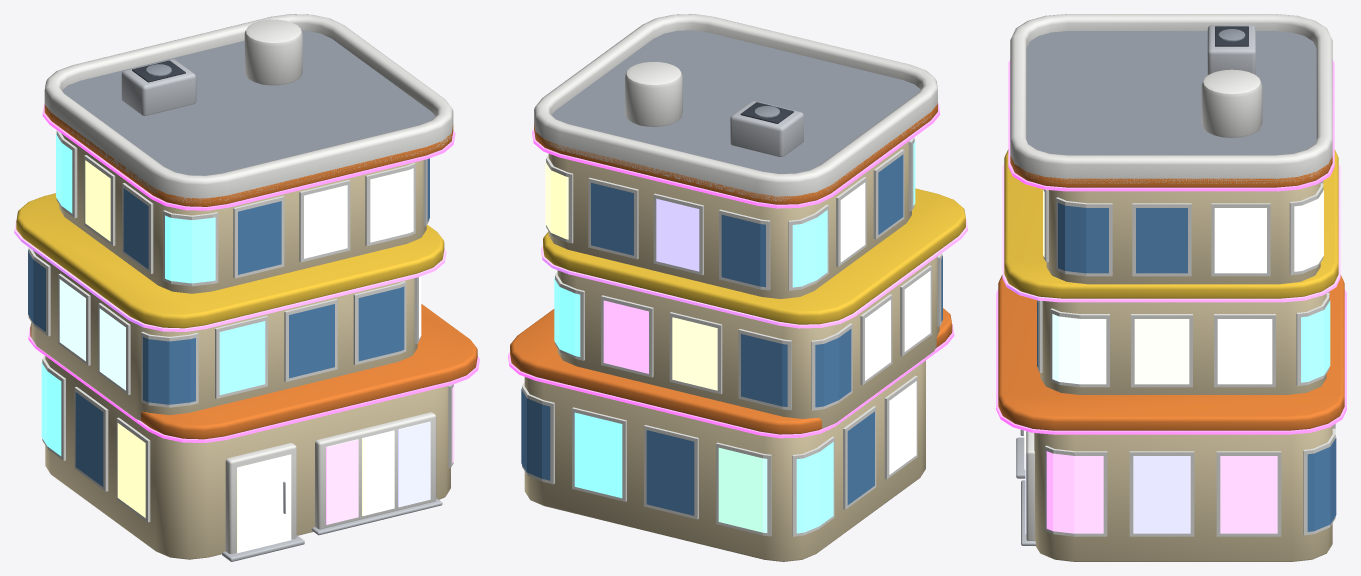
File: predio_caixa_sacadas_laranja.glb
3 views of the same model, side by side, from view 1: azimuth 30°, elevation 25°; view 2: azimuth 150°, elevation 25°; view 3: azimuth 270°, elevation 25° (orthographic). The views are drawn at different scales.
Parts seen in each view (by area): view 1: predio_caixa_sacadas_laranja; view 2: predio_caixa_sacadas_laranja; view 3: predio_caixa_sacadas_laranja.
Boxes of the visible parts, x1,y1,x2,y2 form: predio_caixa_sacadas_laranja: (14,14,479,561); predio_caixa_sacadas_laranja: (508,14,967,561); predio_caixa_sacadas_laranja: (996,14,1346,561).
Size of the model in its own units: 10.1 by 11.91 by 8.7.
10 materials, 1 textured.
